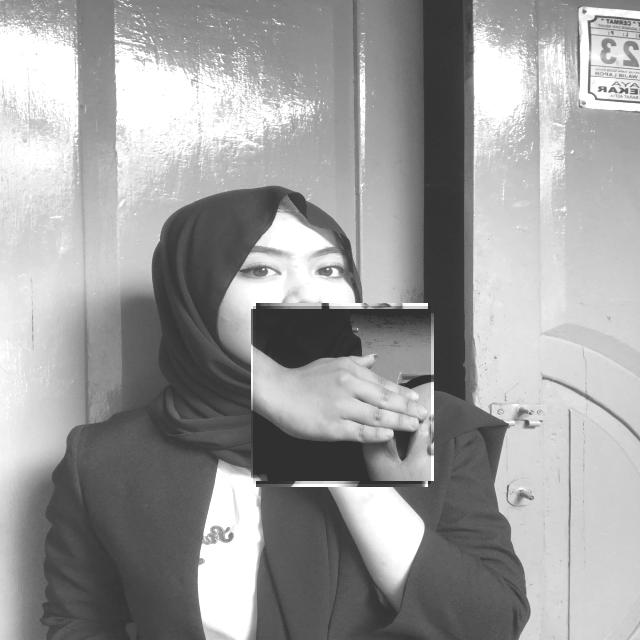ngantuk: (253, 306, 431, 484)
